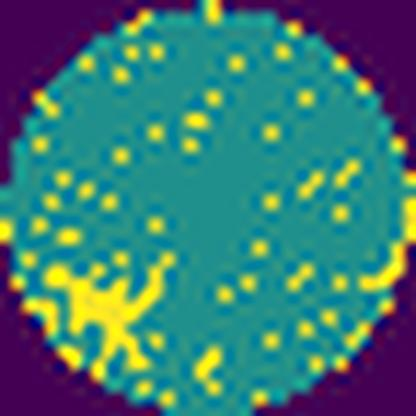Loc: (47, 247, 180, 372)
